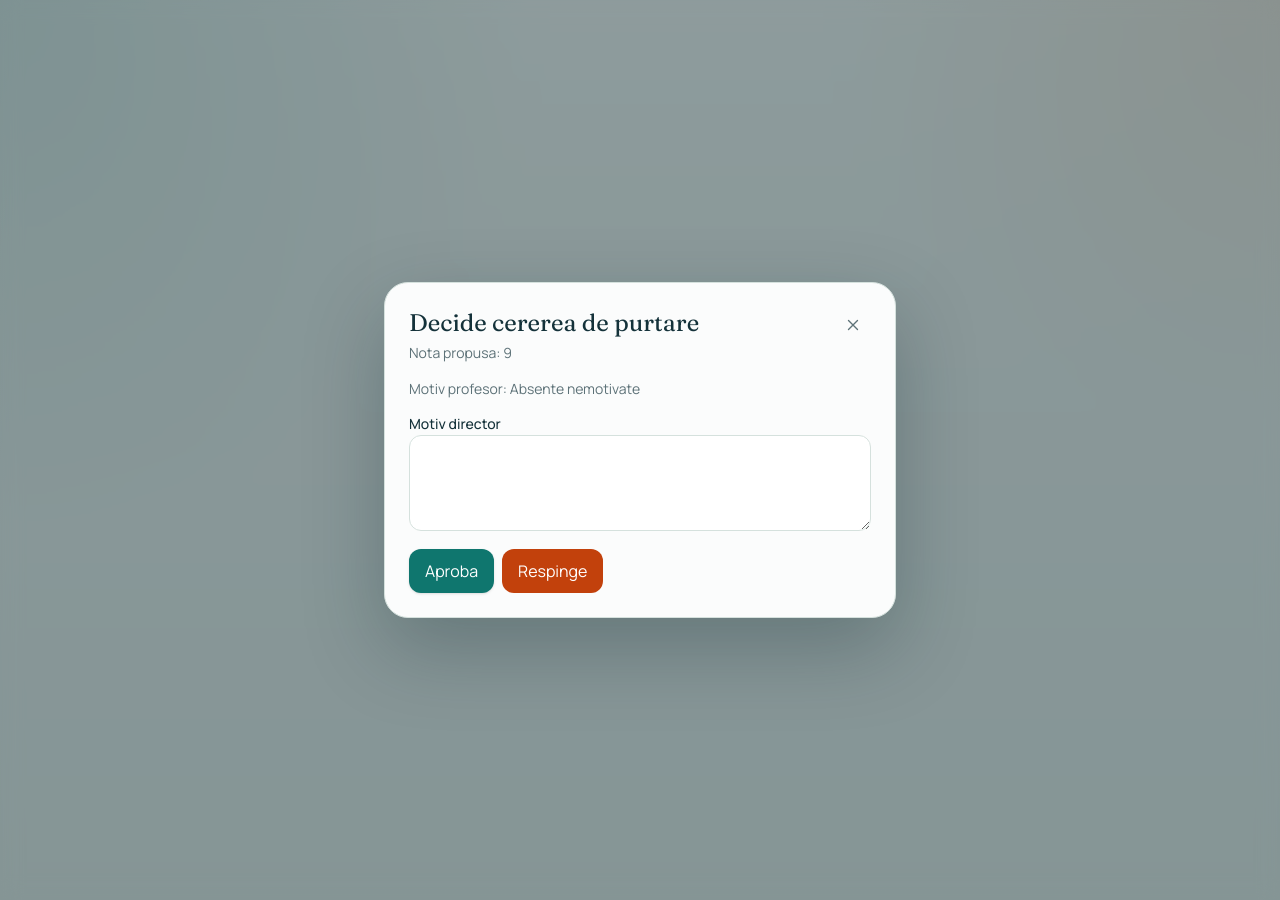
Test: DecisionModal › sends the decision when pressing Aproba
The image size is (1280, 900).
Type "  De acord cu cererea  " into the text box labelled "Motiv director" at (640, 483), box x1=409 y1=435 x2=871 y2=531
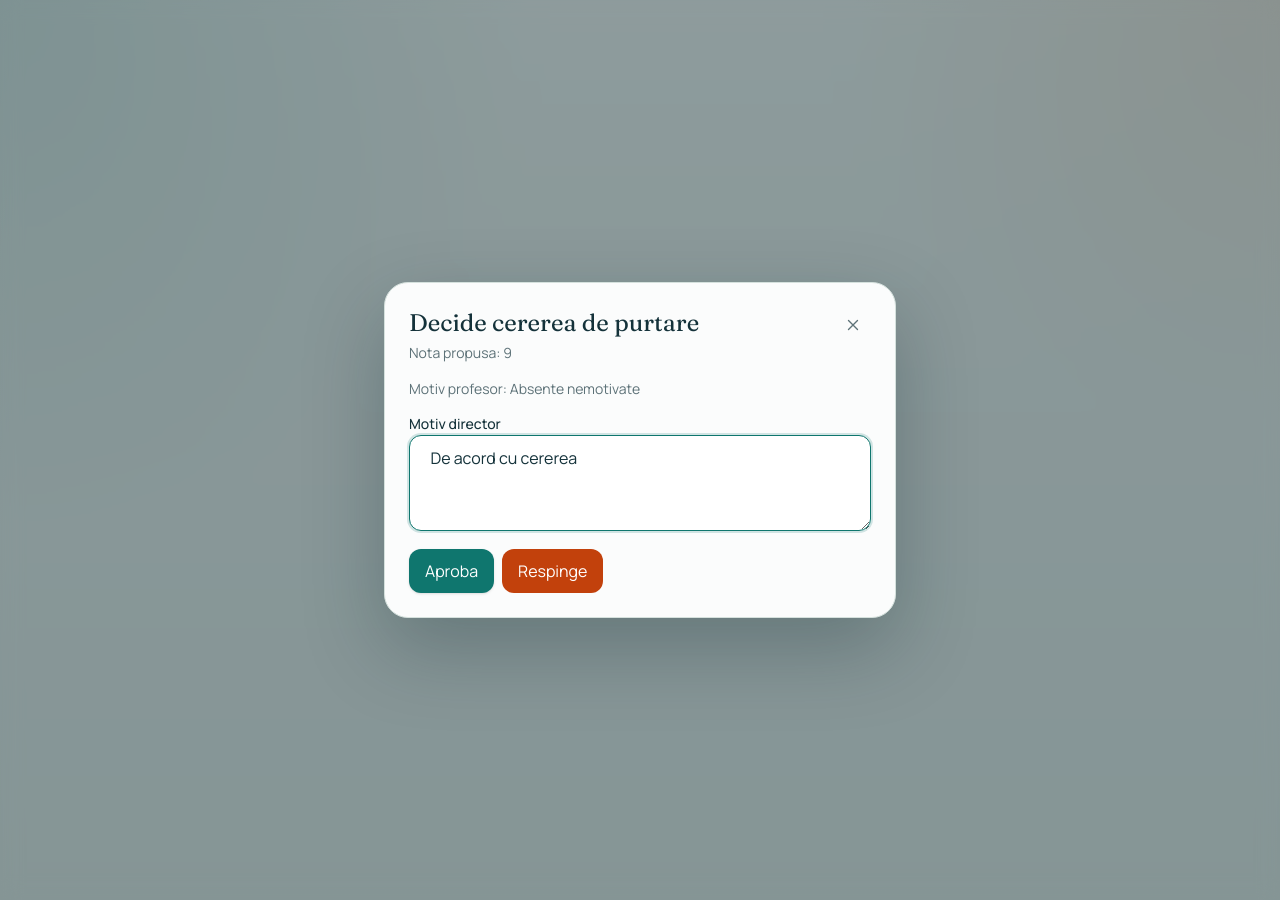
Click the button "Aproba" at (452, 571), box x1=409 y1=549 x2=494 y2=593
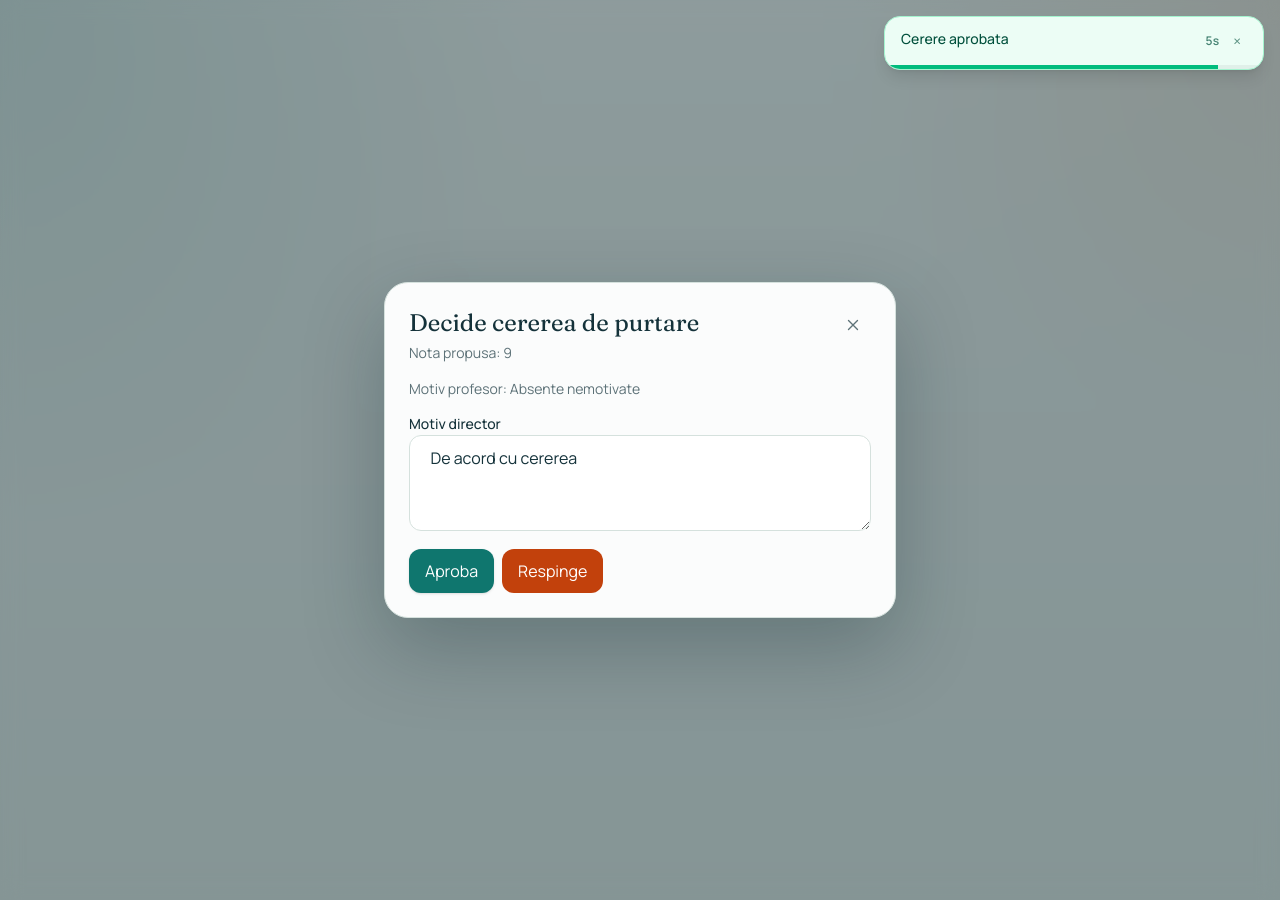
Expected: the text "Cerere aprobata" is shown, x1=901 y1=29 x2=1009 y2=48
